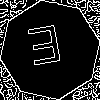E: (25, 25, 66, 75)
